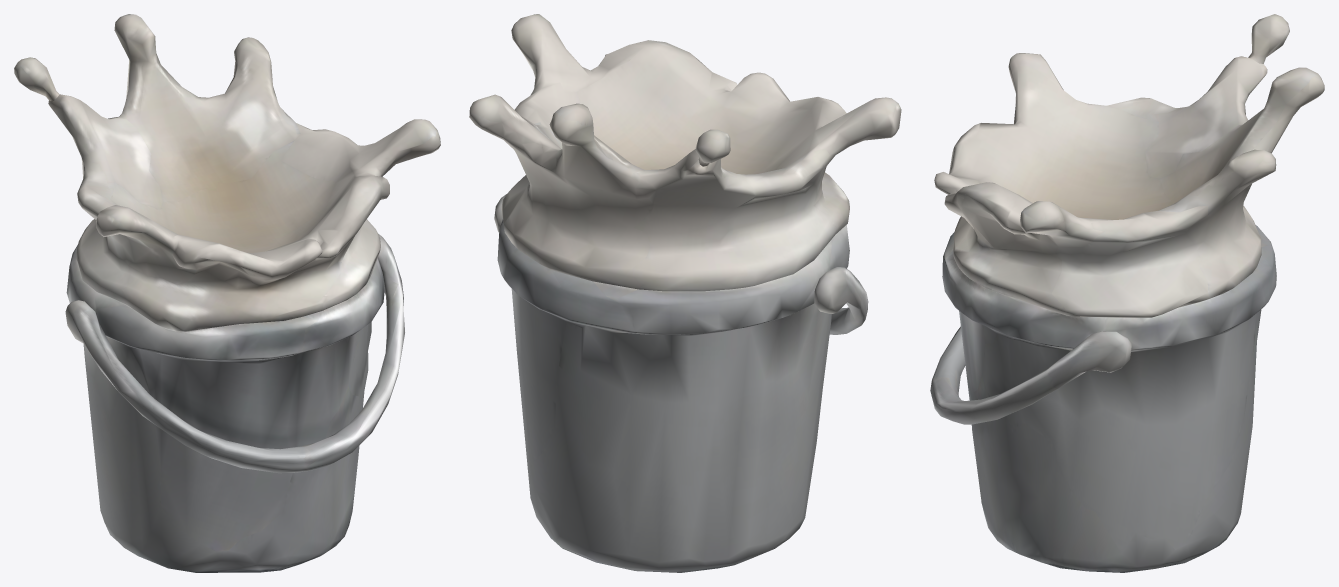
File: m2PaintPickup.glb
3 views of the same model, side by side, from view 1: azimuth 30°, elevation 25°; view 2: azimuth 150°, elevation 25°; view 3: azimuth 270°, elevation 25° (orthographic). The views are drawn at different scales.
Visible parts, largest first — view 1: model; view 2: model; view 3: model.
Boxes of the visible parts, x1,y1,x2,y2 form: model: [14, 14, 440, 572]; model: [469, 14, 901, 572]; model: [930, 14, 1324, 572].
Bounding box in the file's own units: 1.52 × 1.89 × 1.48.
1 material, 1 textured.
